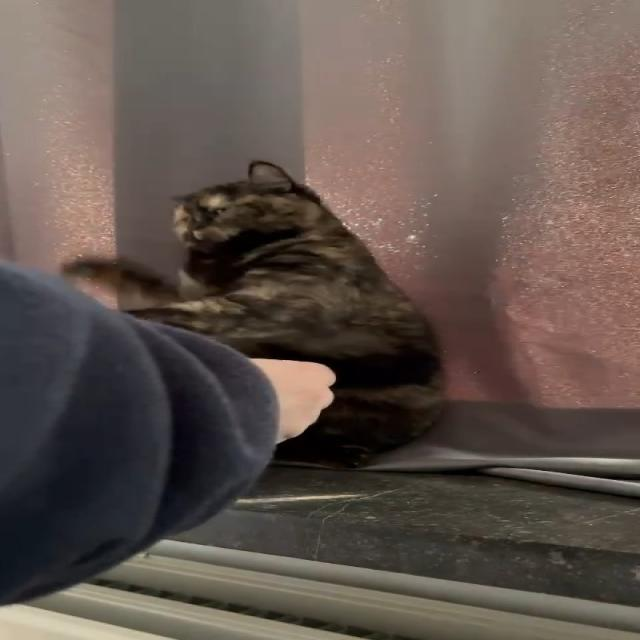authorized: (61, 160, 448, 470)
